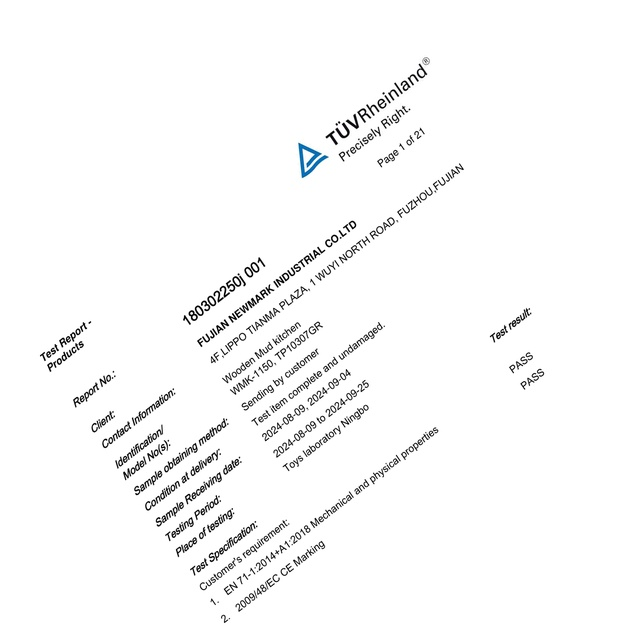tuv_rheinland: (296, 51, 434, 179)
